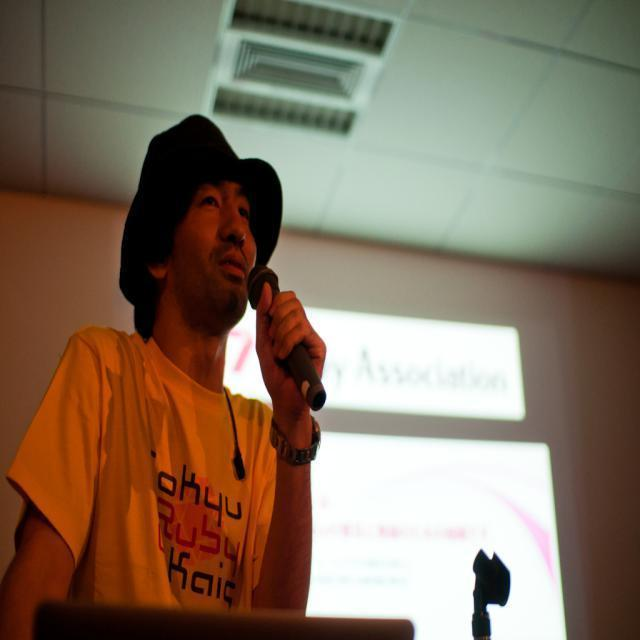closed-mouth: (219, 253, 248, 273)
